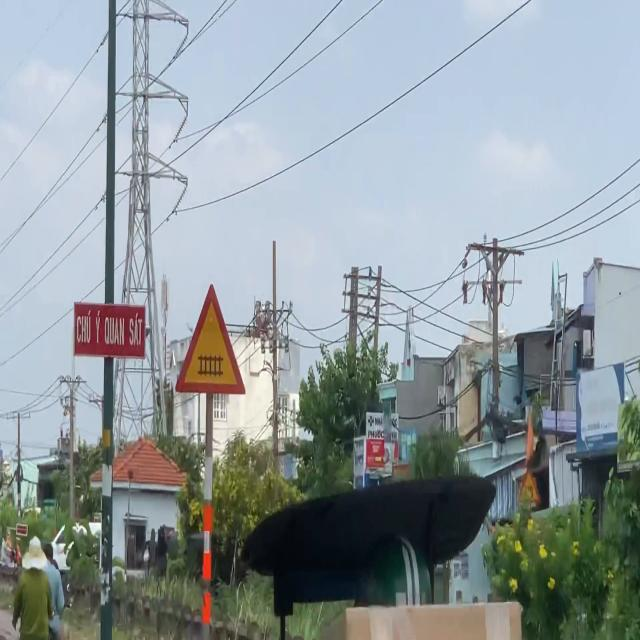Nguy hiem: (175, 283, 246, 396)
